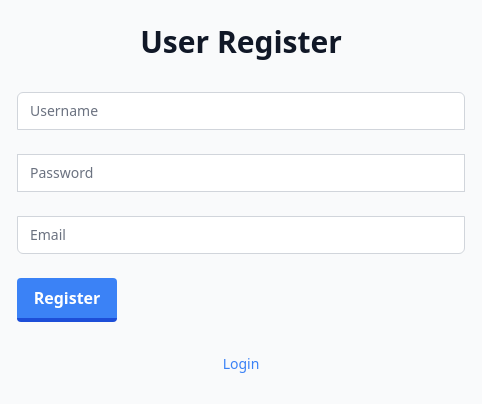
Test: Register Component › displays an error message when the username already exists
In the field with placeholder "Username": (241, 111) [17,92,465,130], type "existingUser"
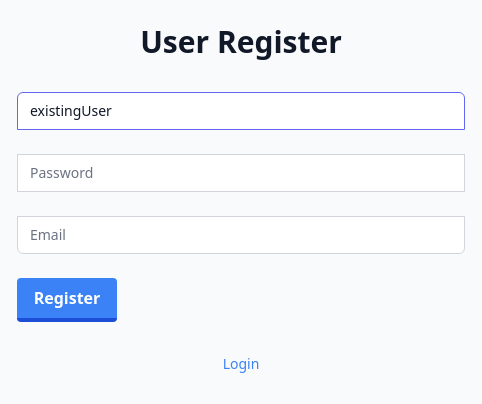
In the password field with placeholder "Password": (241, 173) [17,154,465,192], type "password123"
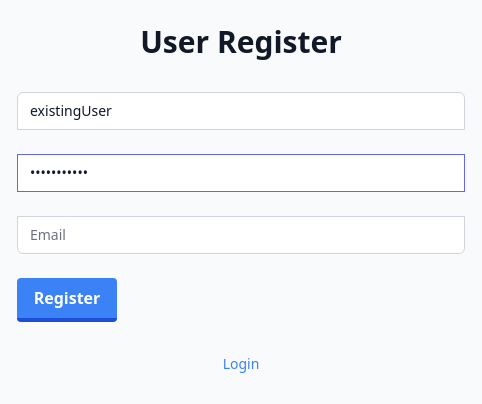
In the field with placeholder "Email": (241, 235) [17,216,465,254], type "uniqueemail@example.com"
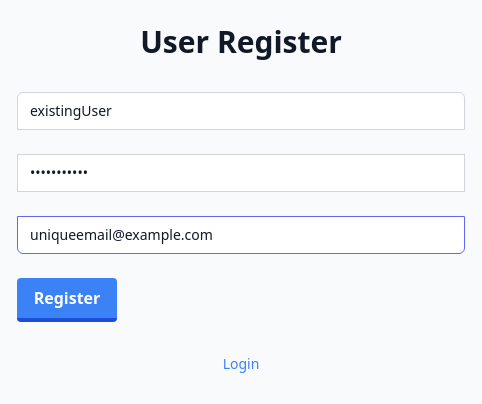
Click the button "Register": (67, 300) [17,278,117,322]
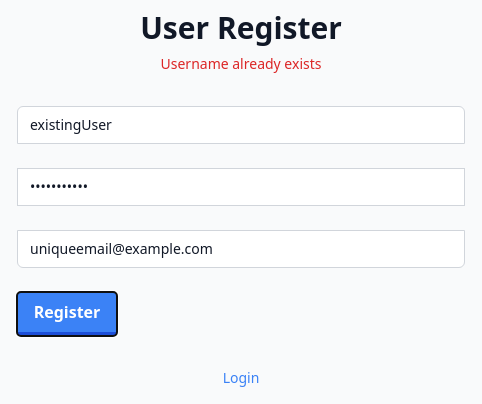
Check: the text "Username already exists" is shown, box [160,54,322,73]
